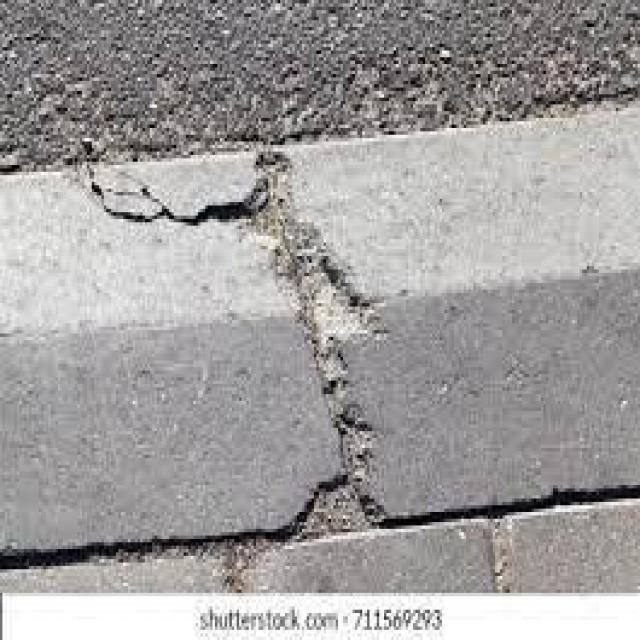curb: (12, 103, 628, 545)
